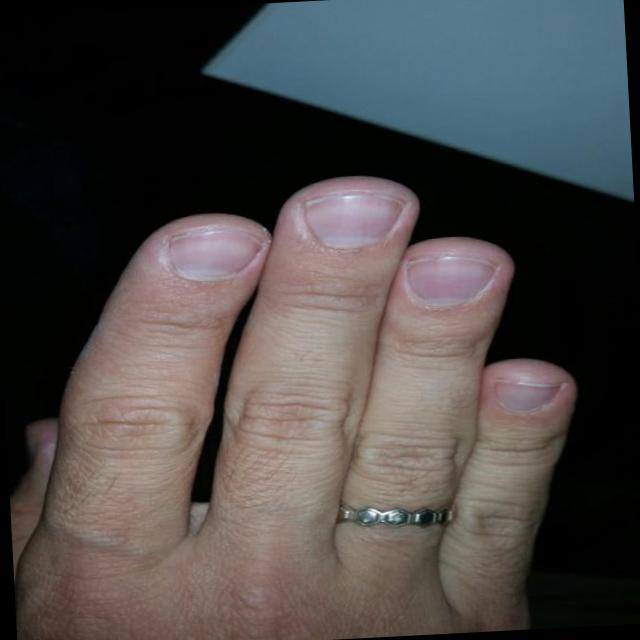Nail: (301, 189, 403, 249), (168, 222, 265, 280), (405, 253, 495, 305), (494, 380, 559, 412)
